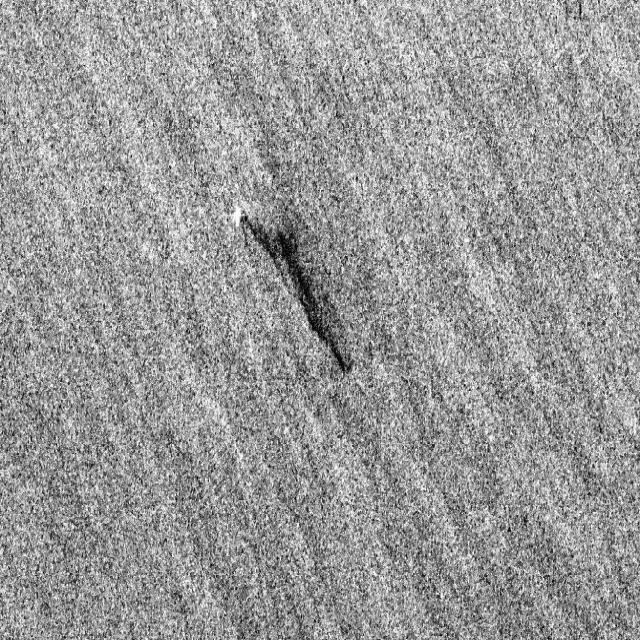oil-spill: (249, 204, 357, 382)
ship: (225, 197, 247, 233)
